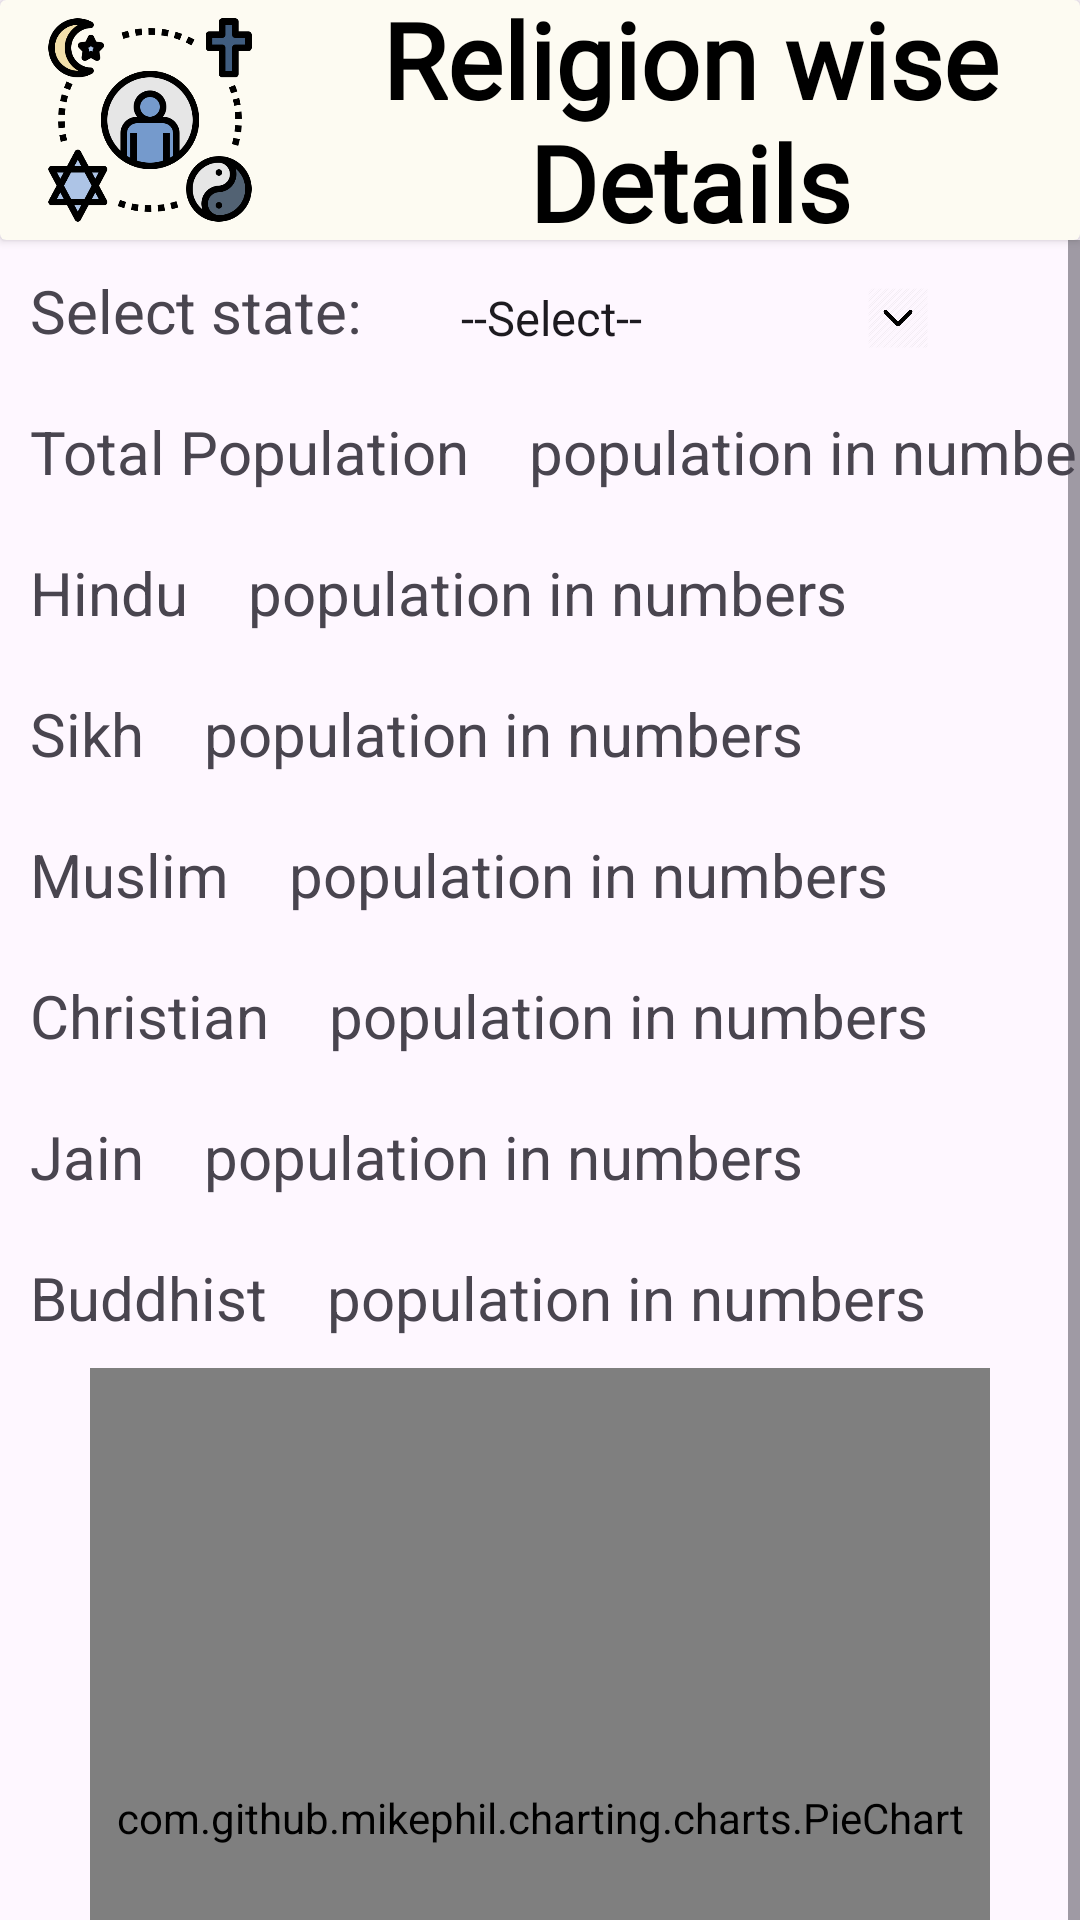

Icons on this 1080×1920 Android screen, each with its box as (left=x1, top=y1, right=x2, bottom=y2):
drop down: (left=883, top=310, right=913, bottom=326)
